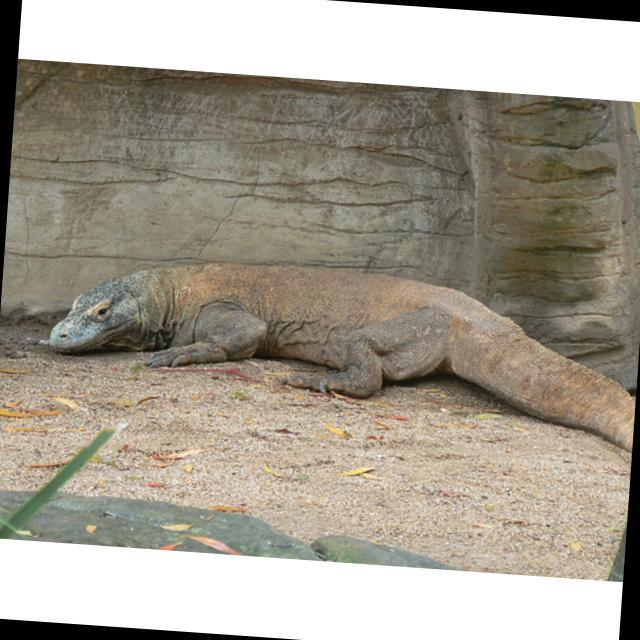KomodoDragon: (38, 248, 640, 449)
